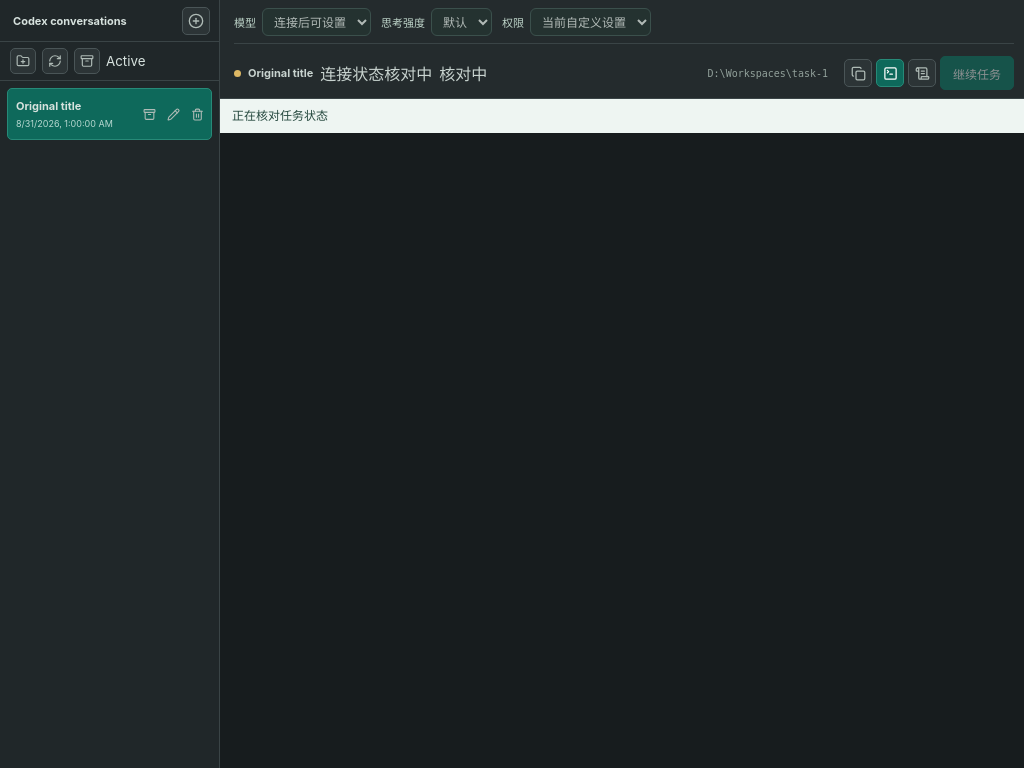
Test: Codex conversation list › disables repeat copies, reports errors, and allows retry from history view
The width and height of the screenshot is (1024, 768).
Click the button named "Copy all conversation history" at coordinates (858, 73), box [844,59,872,87]
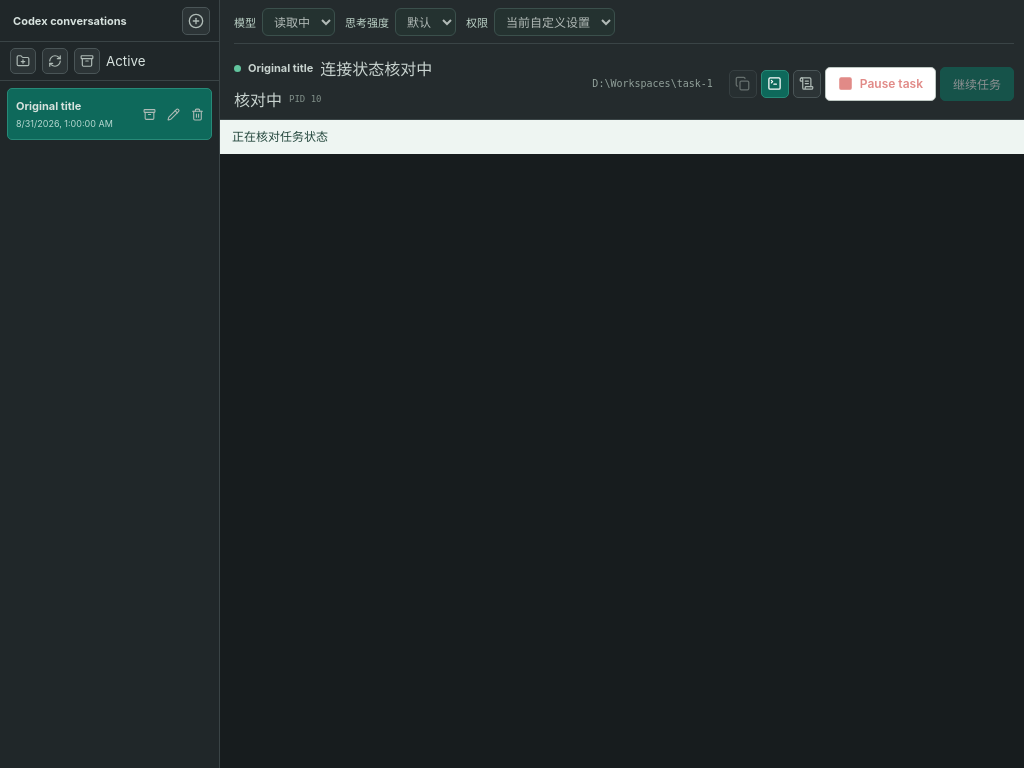
Result: the button named "Copy all conversation history" is disabled
Click the button named "Copy all conversation history" at coordinates (743, 84), box [729,70,757,98]
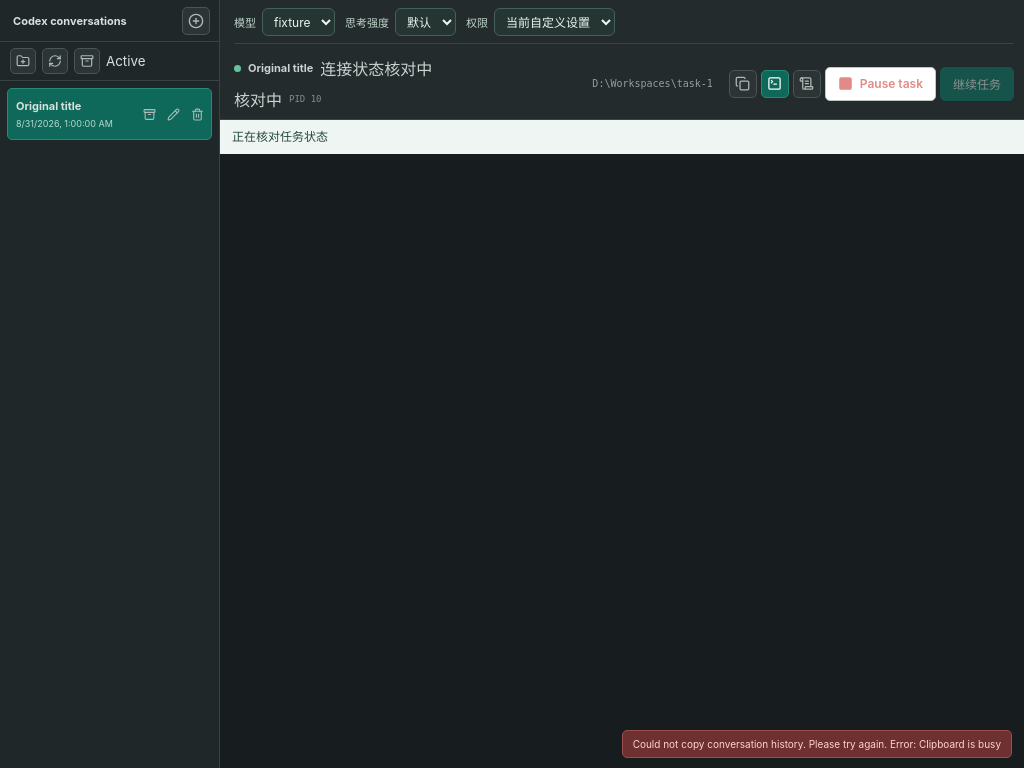
Result: the text "Could not copy conversation history" is shown at [633,738,1001,750]
Result: the button named "Copy all conversation history" is enabled at [729,70,757,98]
Click the button titled "Output history" at coordinates (807, 84), box [793,70,821,98]
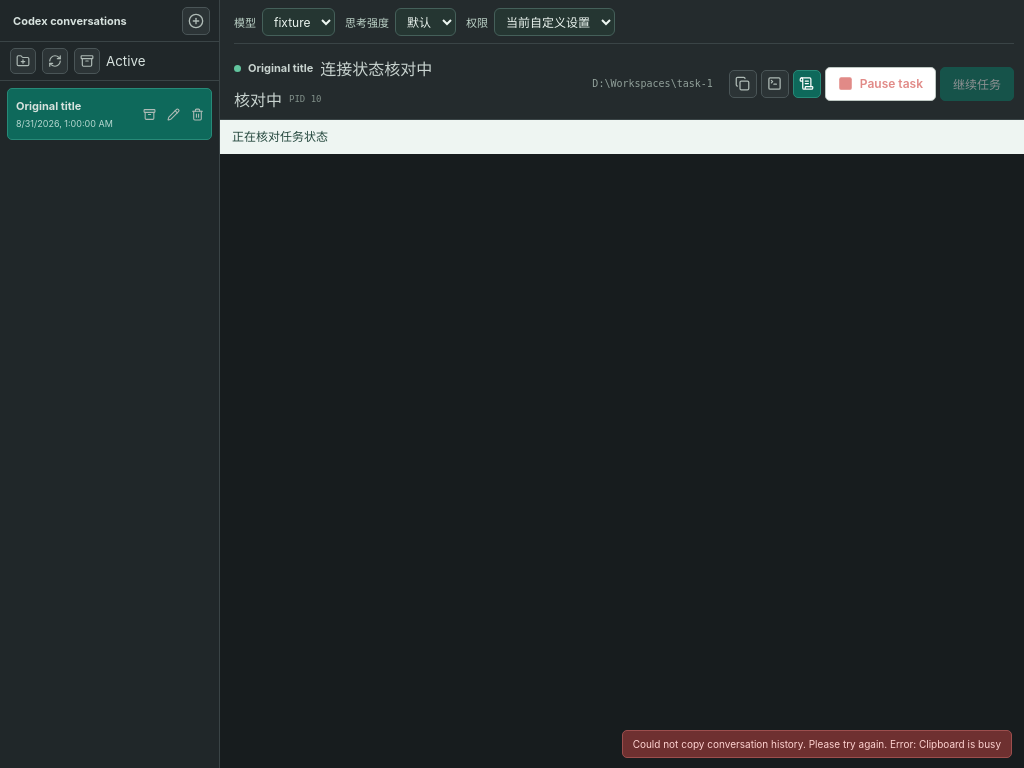
Click the button named "Copy all conversation history" at coordinates (743, 84), box [729,70,757,98]
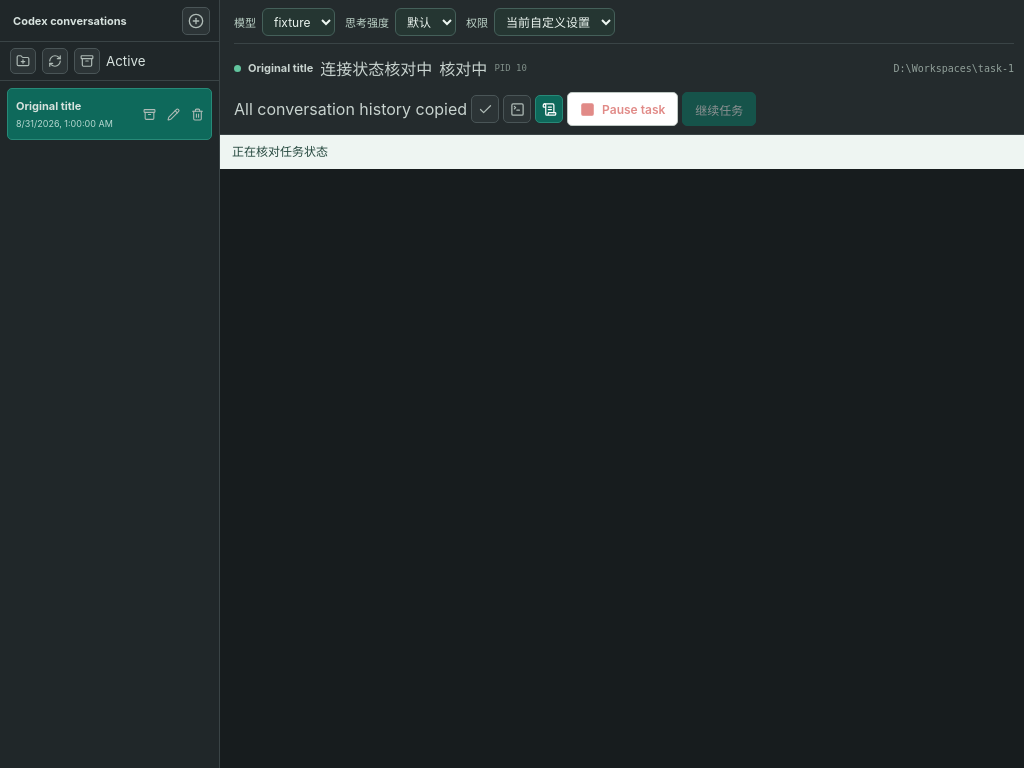
Result: the text "All conversation history copied" is shown at [234,99,467,119]
